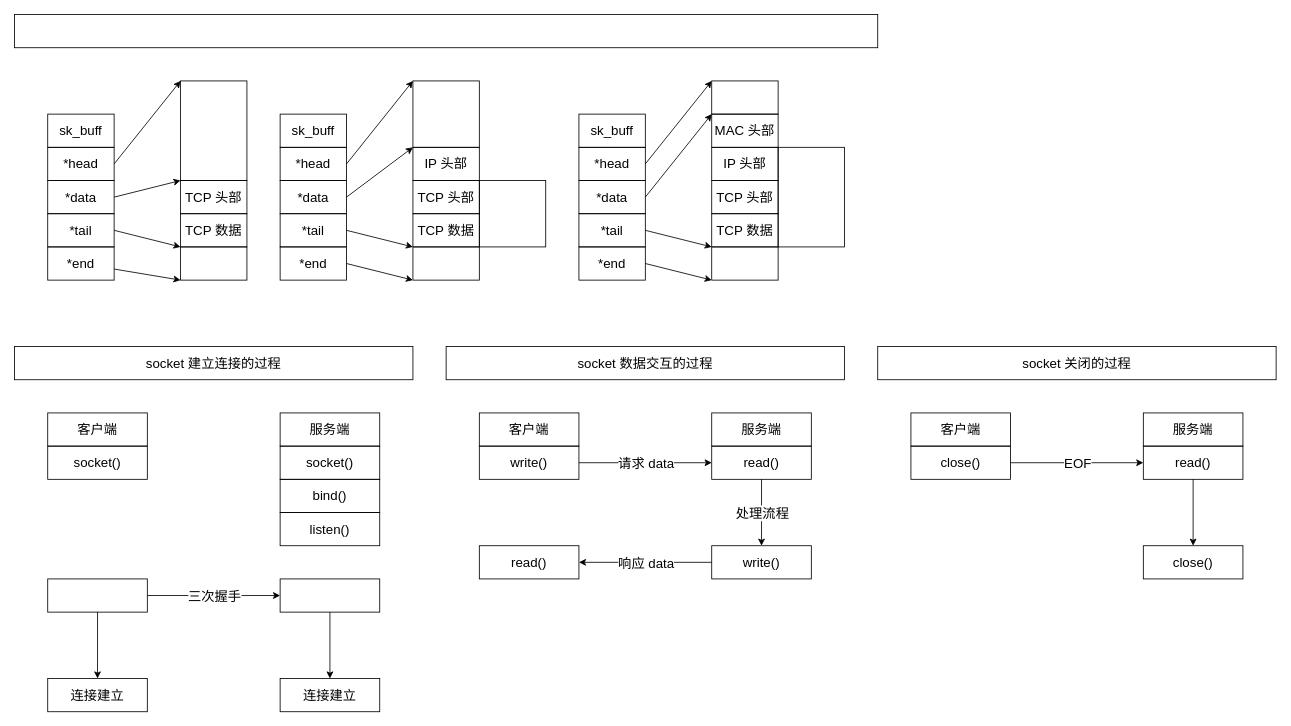
Some shapes in this 1291 by 726 pixel diagram are drawn without their labels. The box of each missing label's shape, as (x1, y1, x2, y2) in pixels:
accept(): (279, 578, 380, 612)
connect(): (47, 578, 147, 612)
IP 数据: (478, 180, 546, 247)
MAC 数据: (777, 146, 845, 247)
发送报文时，sk_buff 结构中的 *data 指针的移动示意: (14, 14, 878, 48)
